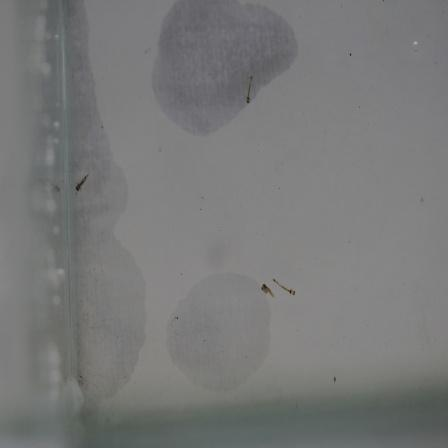Jentik-Nyamuk: (256, 273, 304, 304), (73, 171, 95, 196), (241, 72, 257, 105)
